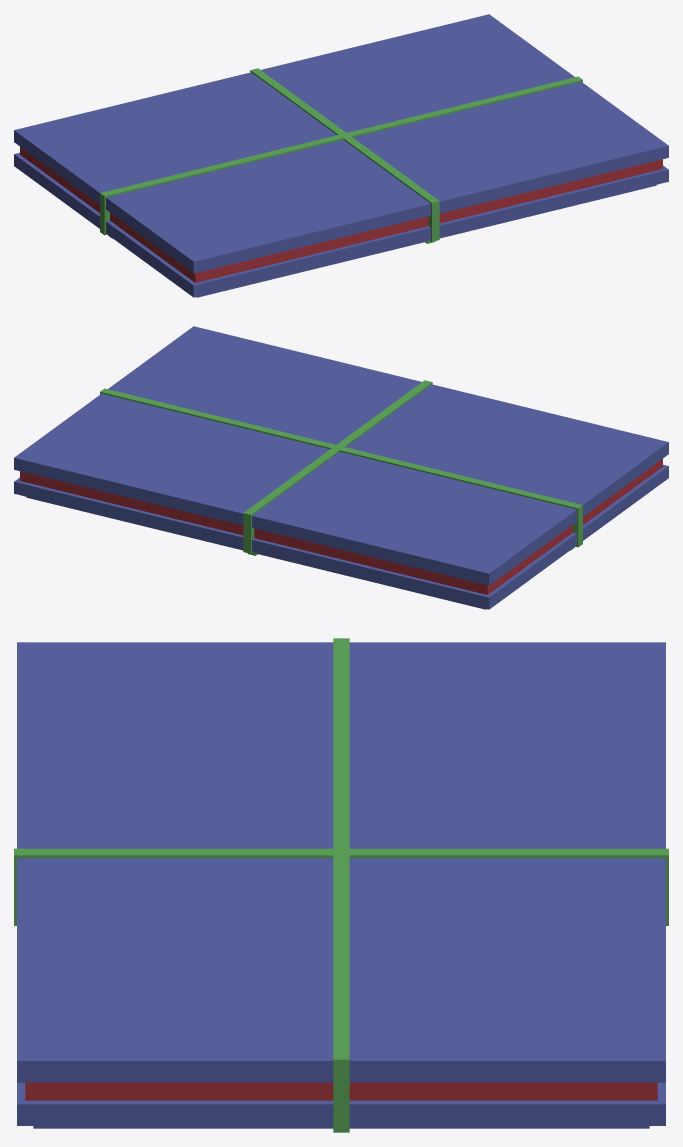
Rendered from SM_MovingPlatform_05.fbx.
3 views of the same model, one above another, from view 1: azimuth 30°, elevation 25°; view 2: azimuth 150°, elevation 25°; view 3: azimuth 270°, elevation 25° (orthographic). The views are drawn at different scales.
Visible parts, largest first — view 1: SM_MovingPlatform_05; view 2: SM_MovingPlatform_05; view 3: SM_MovingPlatform_05.
Part boxes in pixels (box(x1,y1,x2,y2)): SM_MovingPlatform_05: box(14, 14, 668, 297); SM_MovingPlatform_05: box(14, 326, 668, 609); SM_MovingPlatform_05: box(14, 638, 668, 1132).
Size of the model in its own units: 613 by 54.3 by 403.
